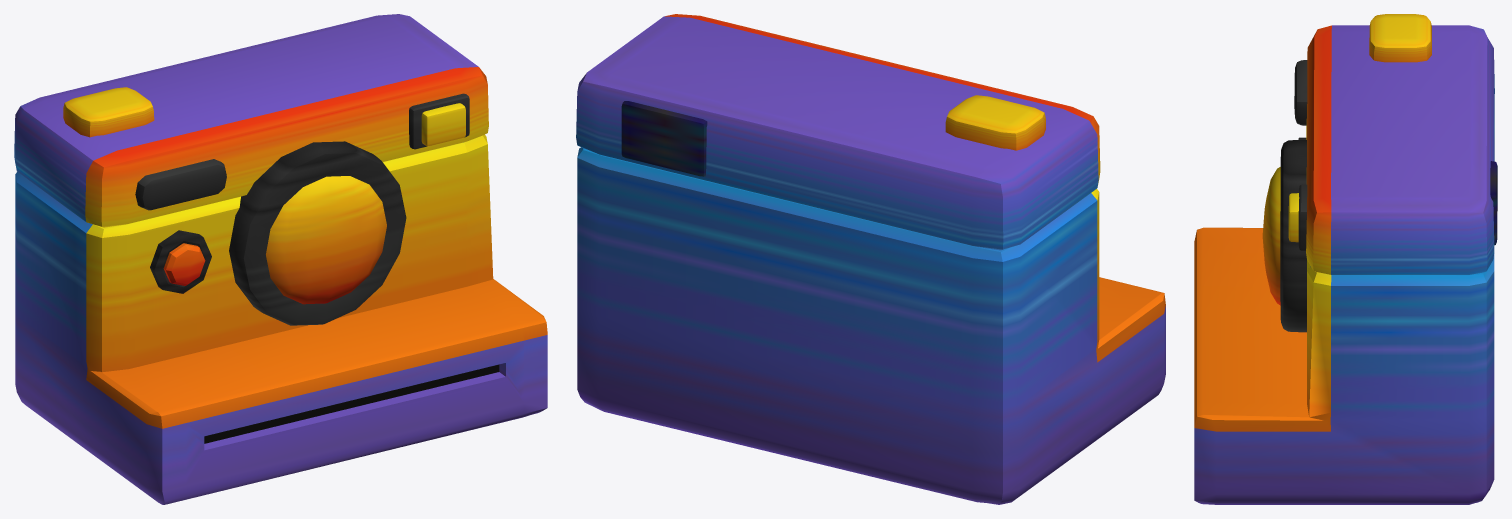
Rendered from camera.glb.
The picture shows the model from 3 angles, left to right: view 1: azimuth 30°, elevation 25°; view 2: azimuth 150°, elevation 25°; view 3: azimuth 270°, elevation 25°; orthographic projection. The views are drawn at different scales.
Visible parts, largest first — view 1: instant-camera; view 2: instant-camera; view 3: instant-camera.
Boxes of the visible parts, box(x1,y1,x2,y2) form: instant-camera: box(14, 14, 547, 504); instant-camera: box(576, 14, 1165, 504); instant-camera: box(1194, 14, 1497, 504).
Bounding box in the file's own units: 0.8165 × 0.6181 × 0.5368.
Materials: 1 (1 with a texture image).
